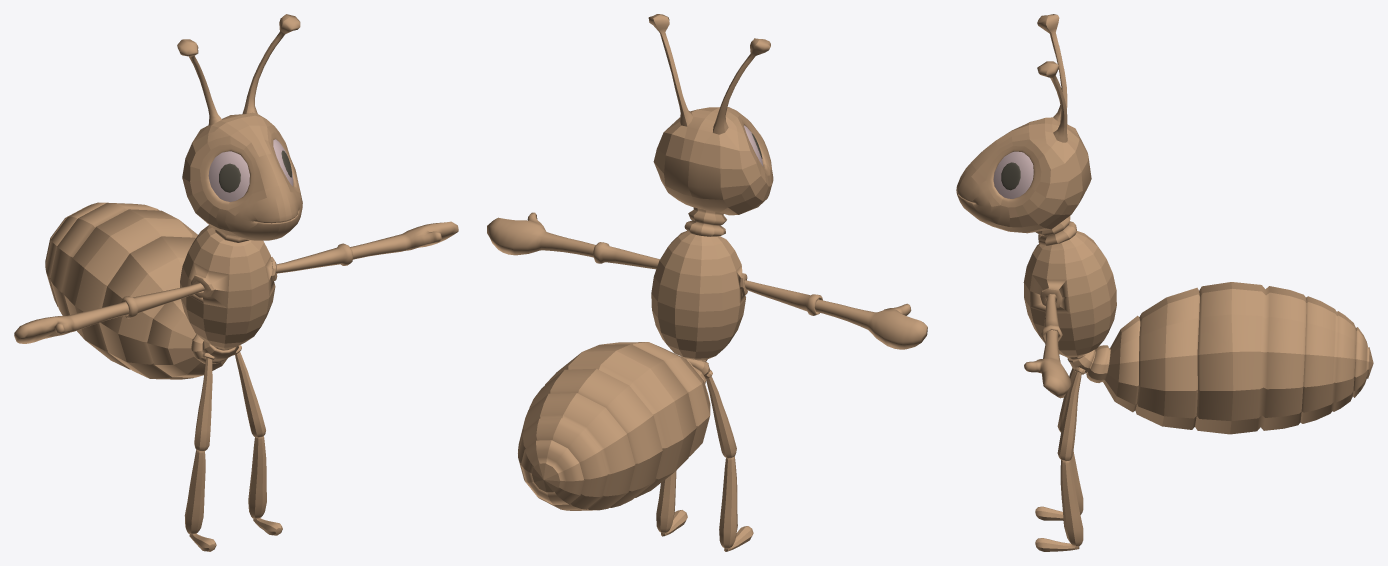
File: ant.fbx
3 views of the same model, side by side, from view 1: azimuth 30°, elevation 25°; view 2: azimuth 150°, elevation 25°; view 3: azimuth 270°, elevation 25° (orthographic). The views are drawn at different scales.
Parts seen in each view (by area): view 1: Body_geo, Eye_Ball_Geo; view 2: Body_geo; view 3: Body_geo, Eye_Ball_Geo.
Boxes of the visible parts, bbox=[...] form: Body_geo: bbox=[14, 14, 458, 551]; Eye_Ball_Geo: bbox=[208, 151, 249, 201]; Body_geo: bbox=[487, 14, 927, 551]; Body_geo: bbox=[956, 14, 1373, 551]; Eye_Ball_Geo: bbox=[993, 151, 1033, 198].
Size of the model in its own units: 18.76 by 20.73 by 15.82.
